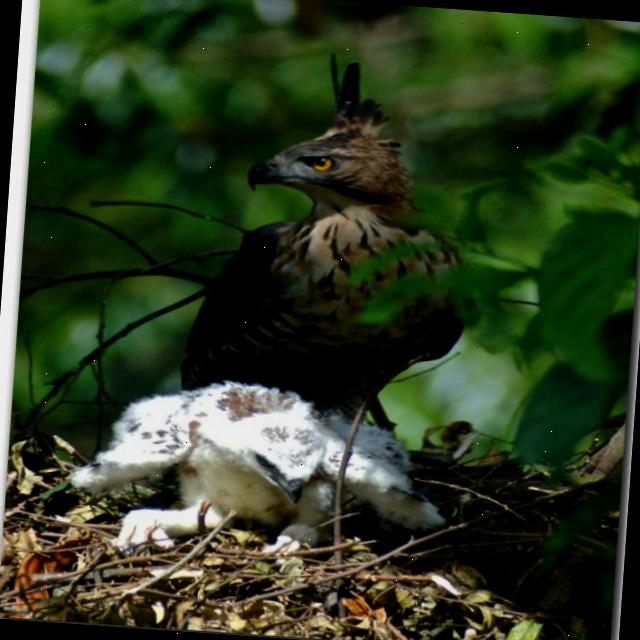Elang Jawa: (130, 21, 500, 414), (61, 364, 457, 600)
